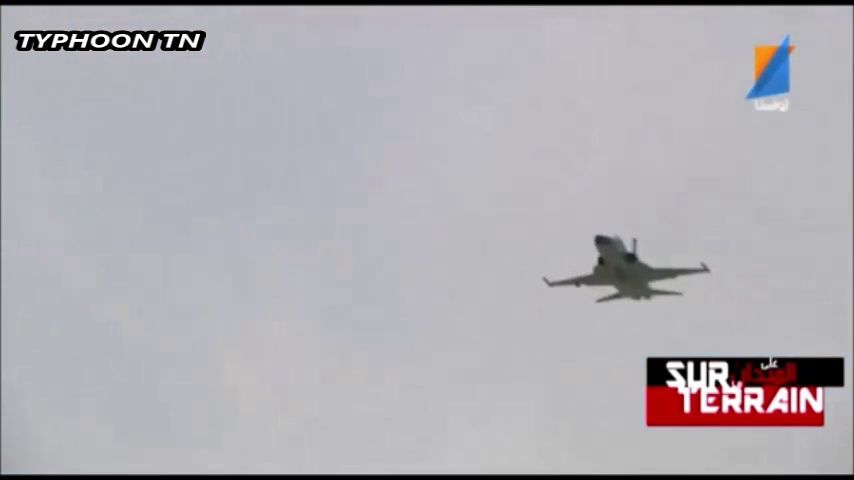Airplane: (540, 227, 715, 305)
